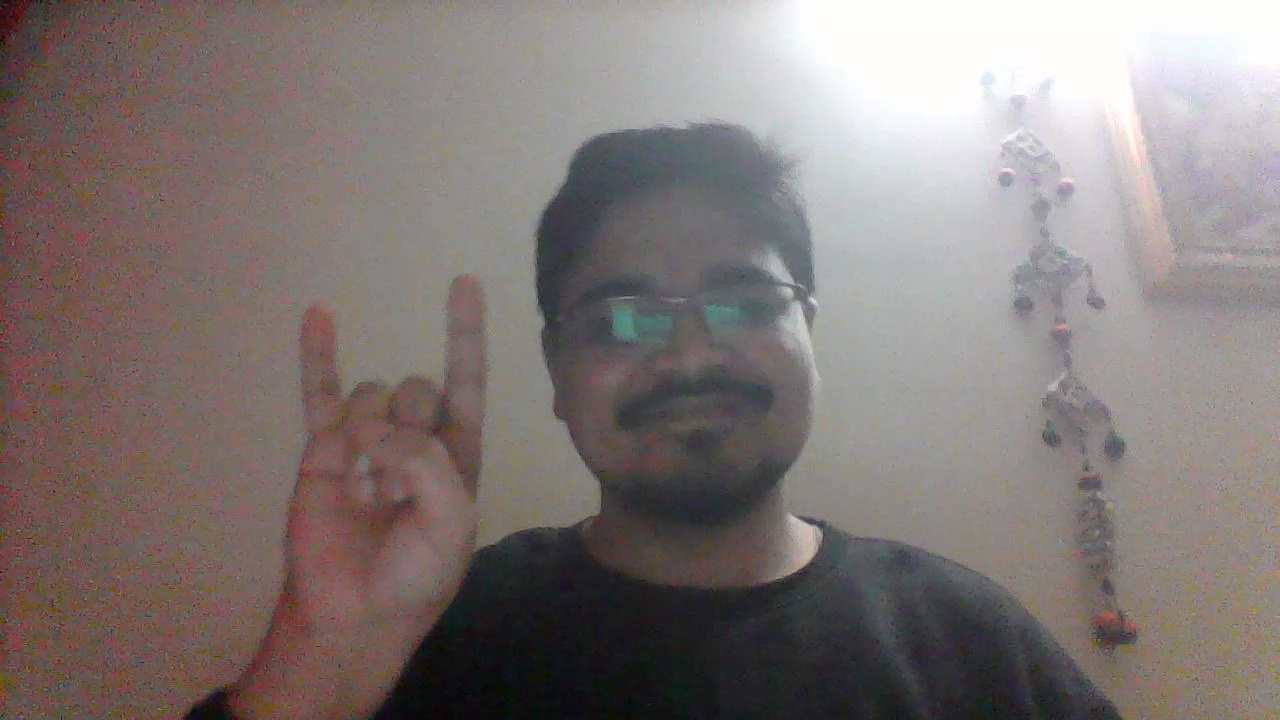ILoveYou: (271, 270, 500, 704)
